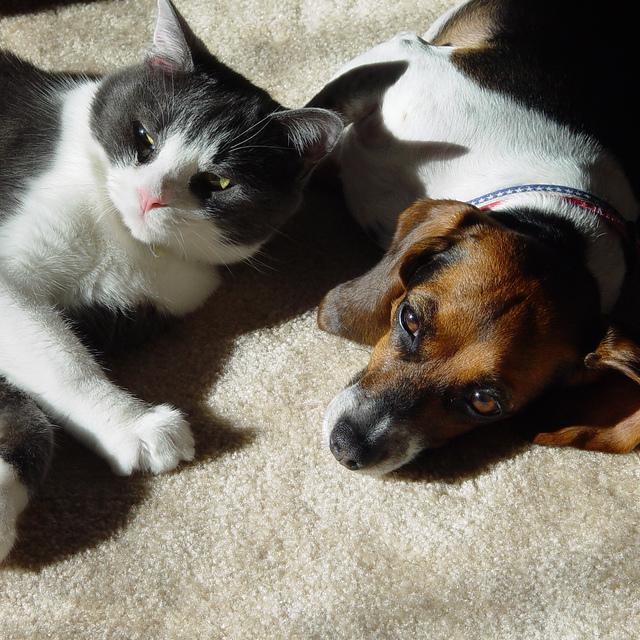animals: (140, 0, 341, 209)
